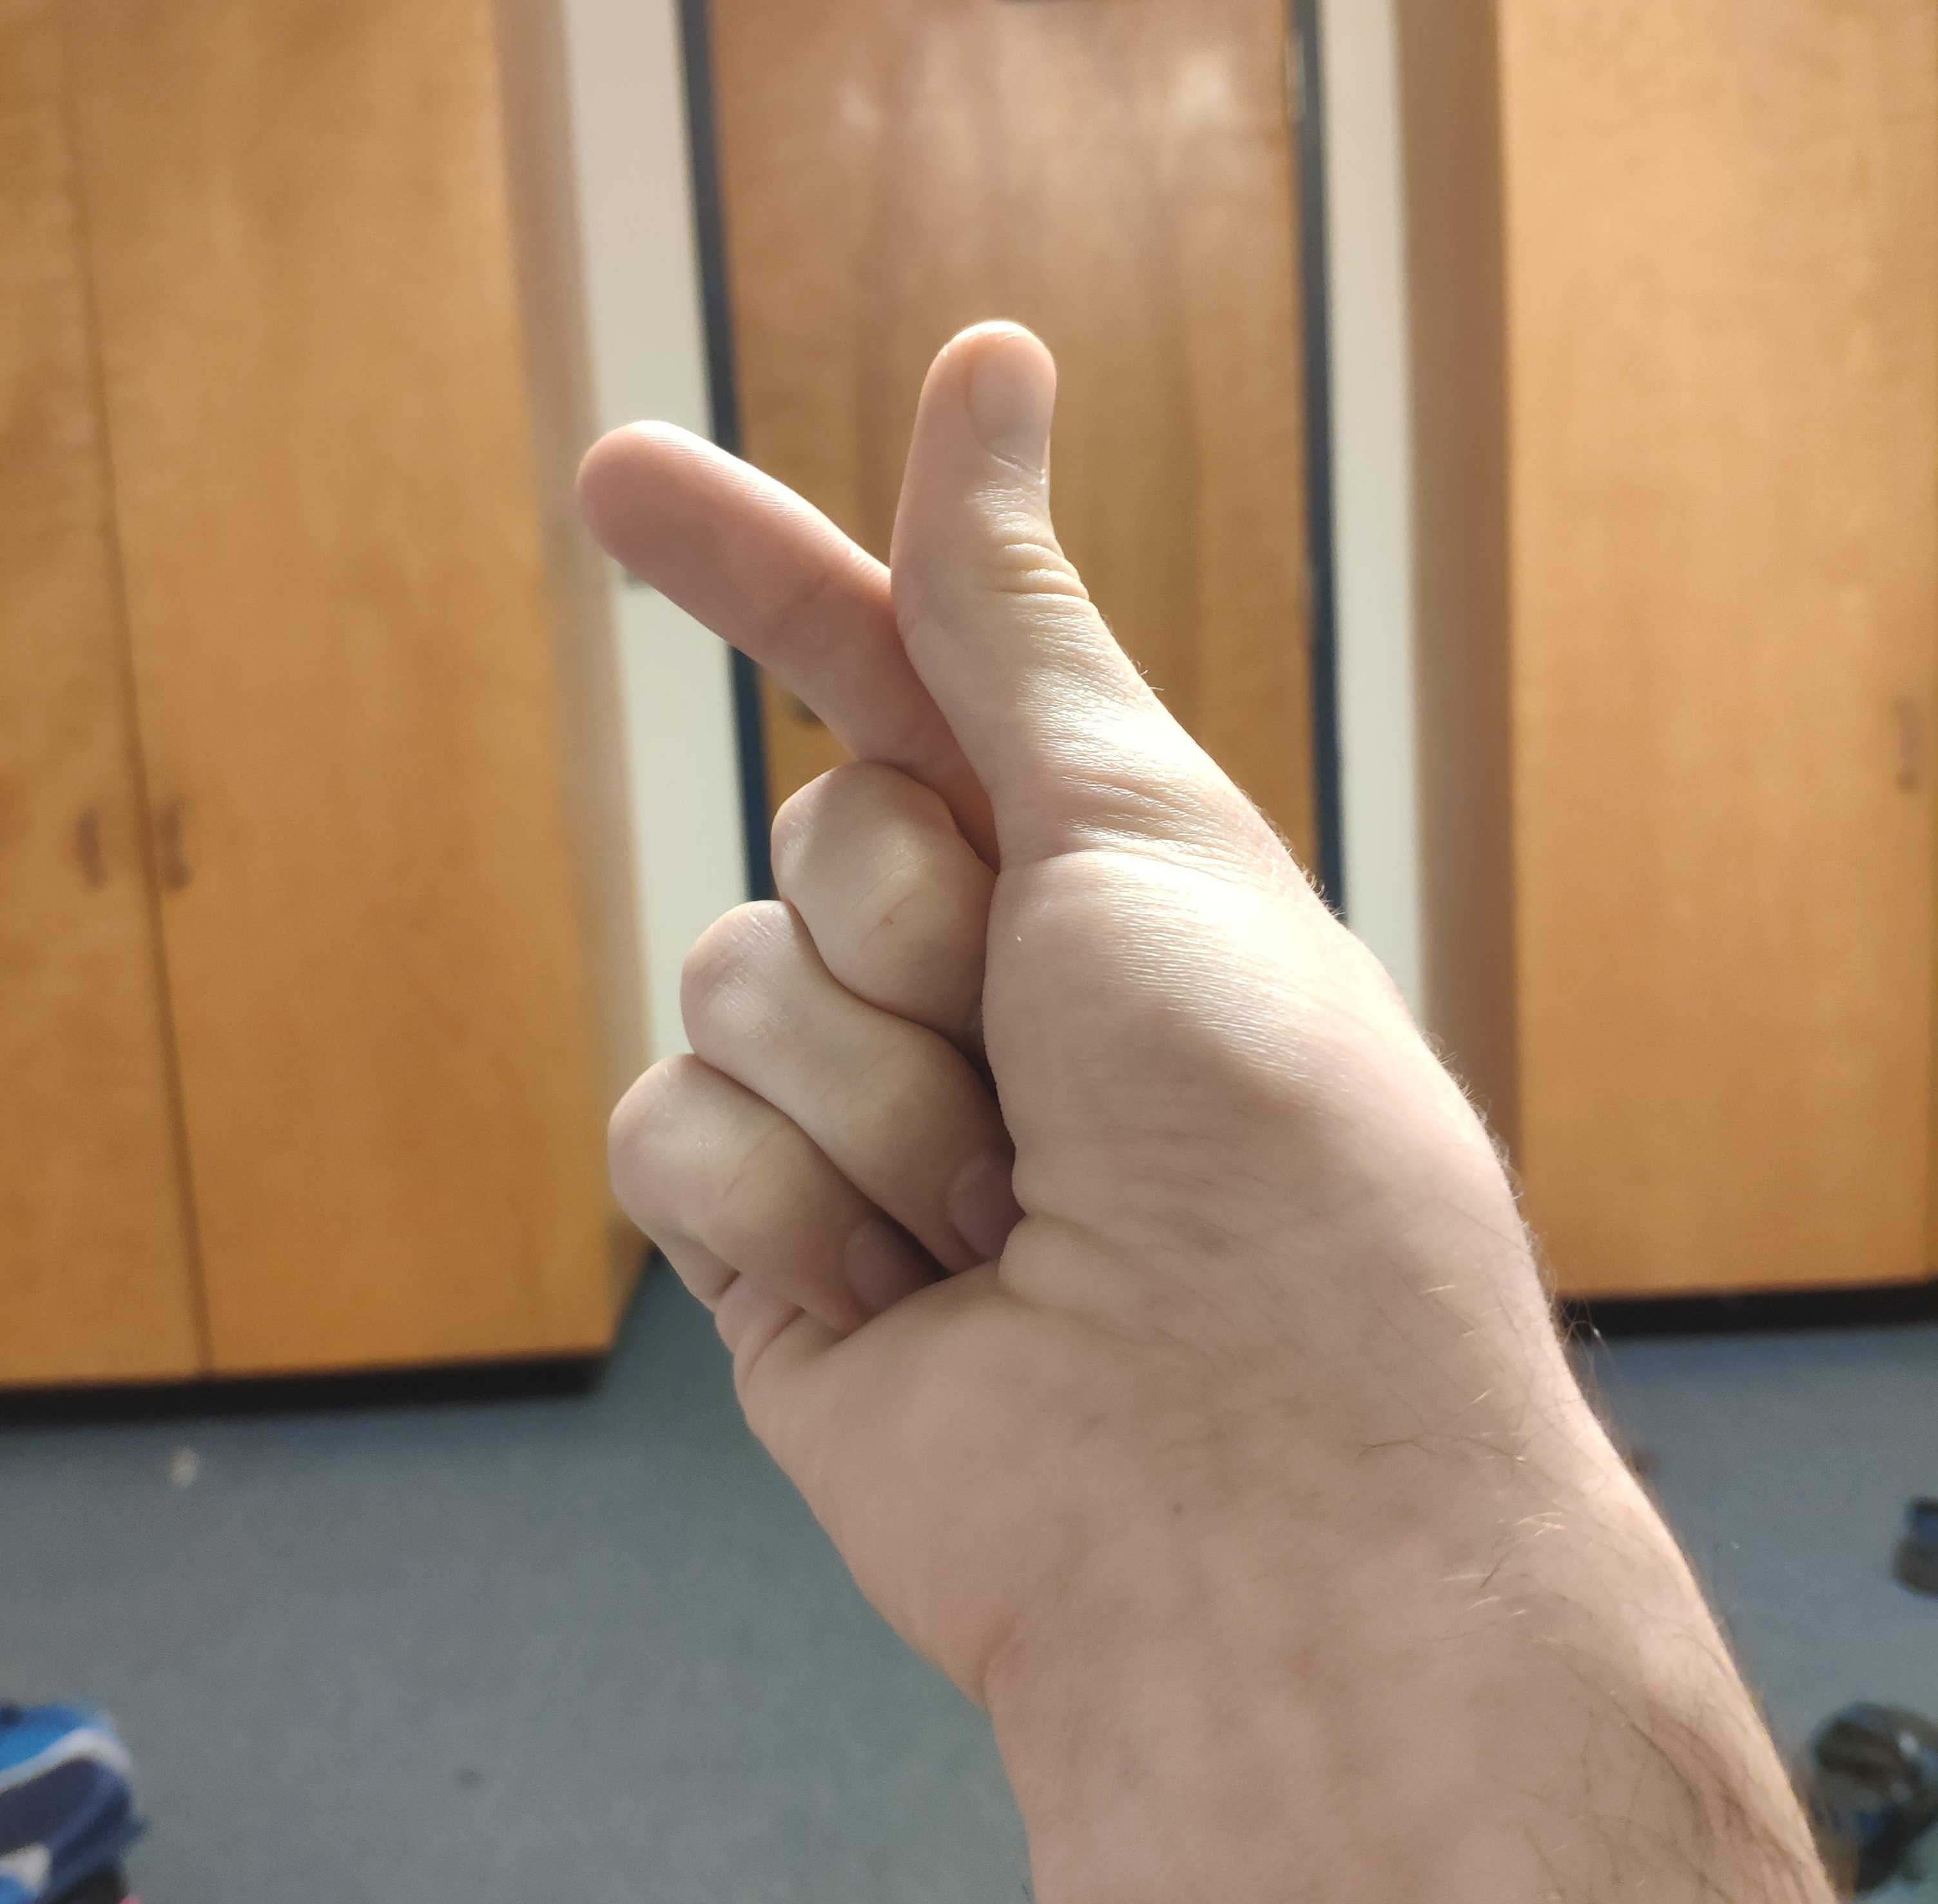heart gesture: (554, 305, 1108, 727)
